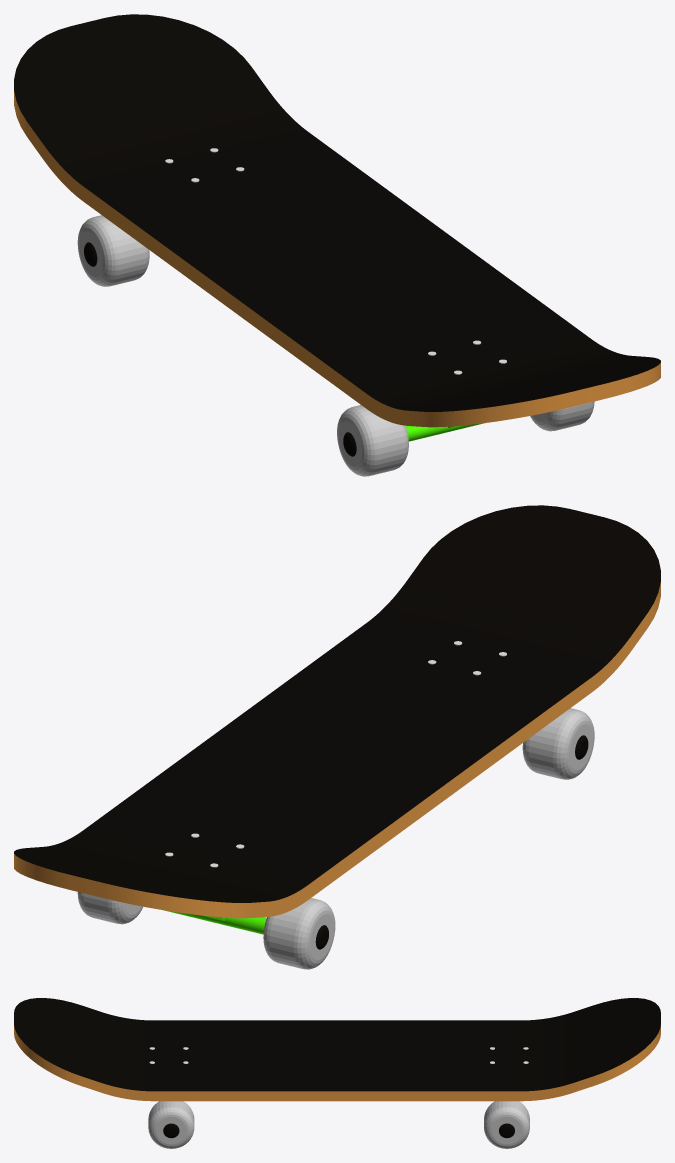
Rendered from upload.fbx.
3 renders of one model, top to bottom at view 1: azimuth 30°, elevation 25°; view 2: azimuth 150°, elevation 25°; view 3: azimuth 270°, elevation 25°, orthographic. The views are drawn at different scales.
Parts seen in each view (by area): view 1: Polygon, Cylinder; view 2: Polygon, Cylinder, Cylinder_2_2; view 3: Polygon, Cylinder, Cylinder_1_2, Polygon_1.
Part boxes in pixels (left/top/right/bottom): Polygon: left=14, top=14, right=660, bottom=426; Cylinder: left=77, top=215, right=594, bottom=476; Polygon: left=14, top=505, right=660, bottom=918; Cylinder: left=77, top=708, right=594, bottom=969; Cylinder_2_2: left=164, top=910, right=266, bottom=934; Polygon: left=14, top=998, right=660, bottom=1100; Cylinder: left=148, top=1101, right=529, bottom=1148; Cylinder_1_2: left=163, top=1123, right=514, bottom=1138; Polygon_1: left=21, top=1049, right=653, bottom=1101.
Bounding box in the file's own units: 136 × 82.04 × 498.
